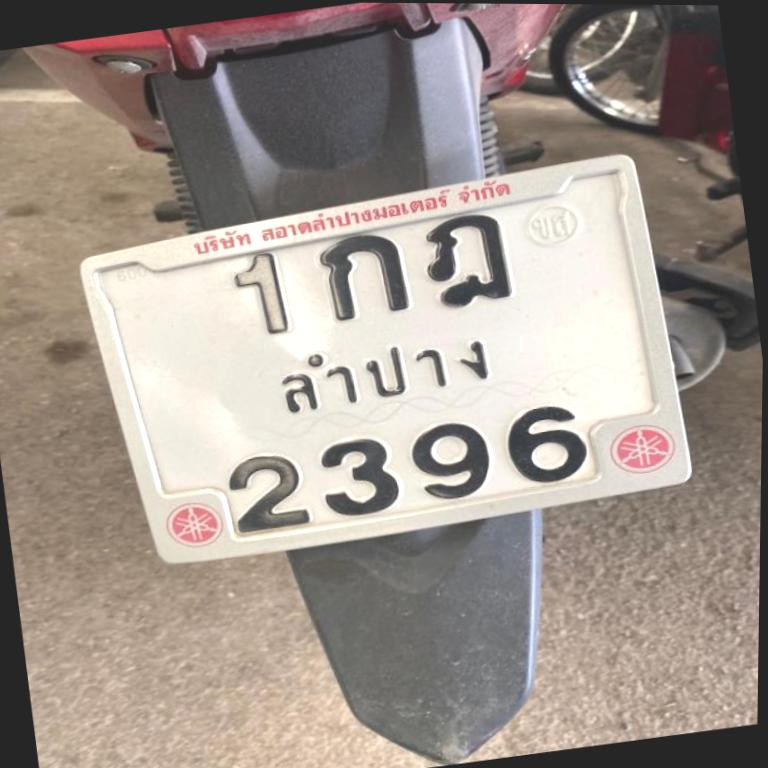license plate: (81, 157, 687, 561)
